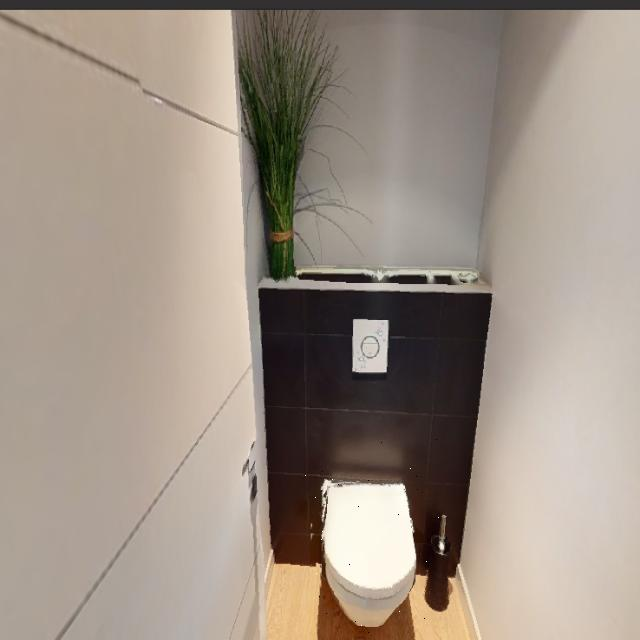toilet: (301, 438, 444, 640)
